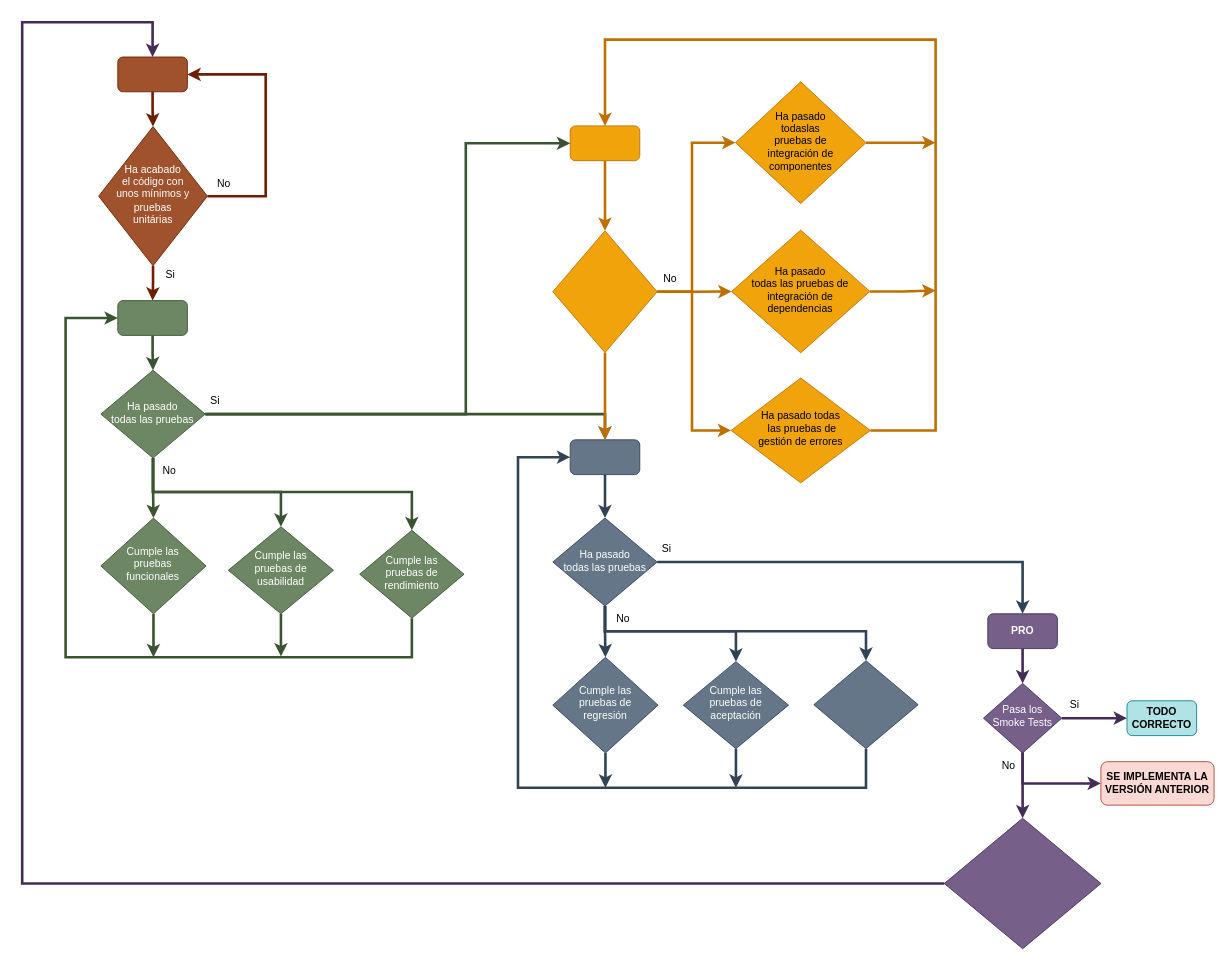
Some shapes in this 1229 by 964 pixel diagram are drawn without their labels. Here are the shapes that lost their labels. From the top down, the box of each, then its label:
(117, 56, 187, 92): DEV
(569, 125, 640, 161): INT
(552, 230, 657, 353): Se puede integrar con la rama principal
(117, 300, 187, 335): QA
(569, 439, 640, 475): PRE
(813, 660, 918, 749): Cumple las pruebas de carga
(943, 817, 1101, 949): Se hace rollback, comenzando por DEV para encontrar el bug
